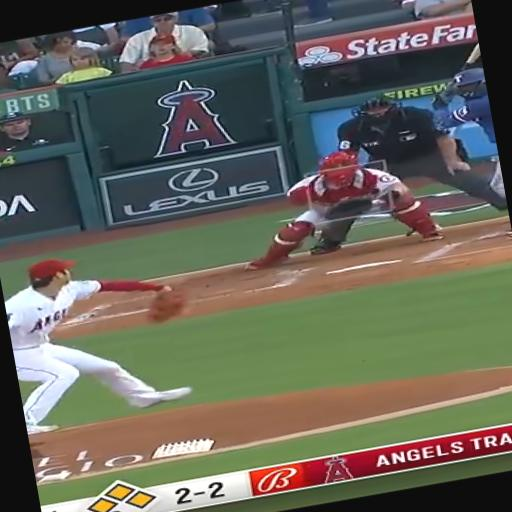bat: (461, 44, 480, 70), (462, 44, 480, 69)
